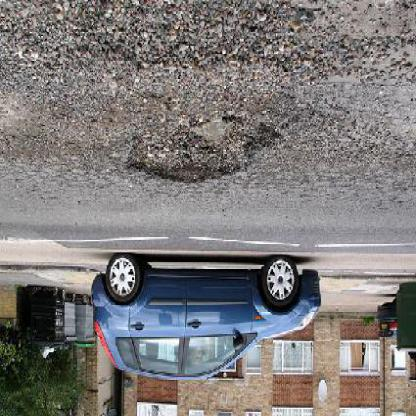pothole: (125, 114, 283, 189)
